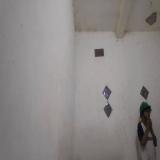Helmet: (138, 100, 152, 114)
